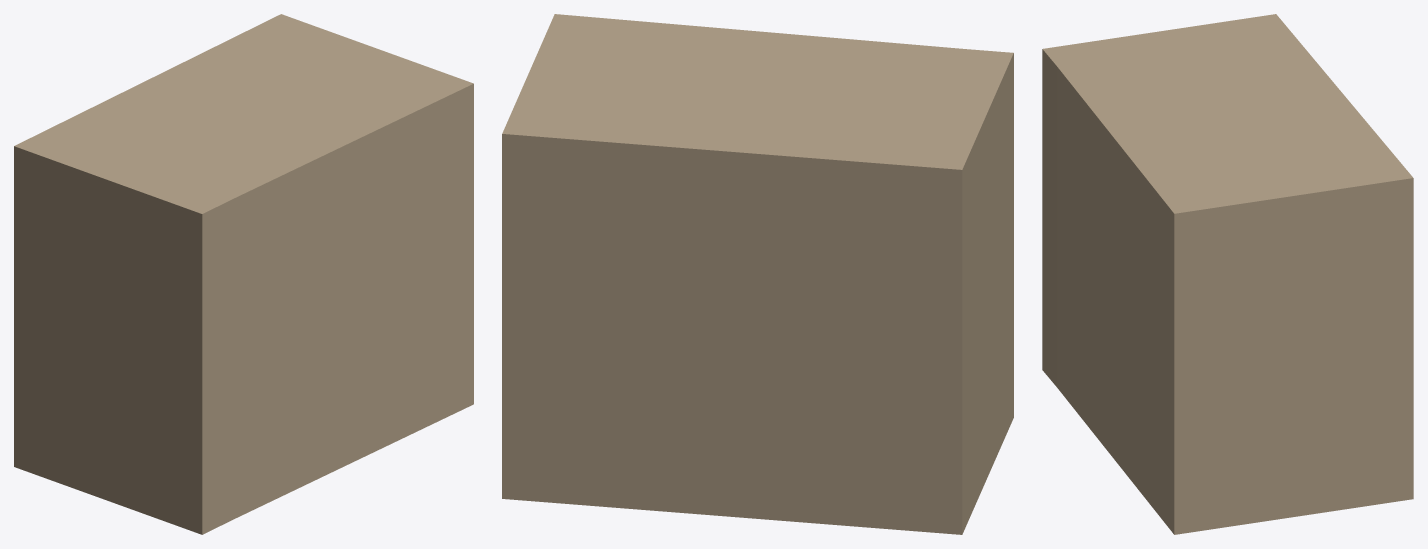
The model's file is bld_100469598.dae.
3 renders of one model, left to right at view 1: azimuth 30°, elevation 25°; view 2: azimuth 150°, elevation 25°; view 3: azimuth 270°, elevation 25°, orthographic. The views are drawn at different scales.
Visible parts, largest first — view 1: bld_100469598; view 2: bld_100469598; view 3: bld_100469598.
Boxes of the visible parts, bbox=[...] form: bld_100469598: bbox=[14, 14, 473, 534]; bld_100469598: bbox=[502, 14, 1013, 534]; bld_100469598: bbox=[1042, 14, 1413, 534].
Bounding box in the file's own units: 10.68 × 8.38 × 8.
